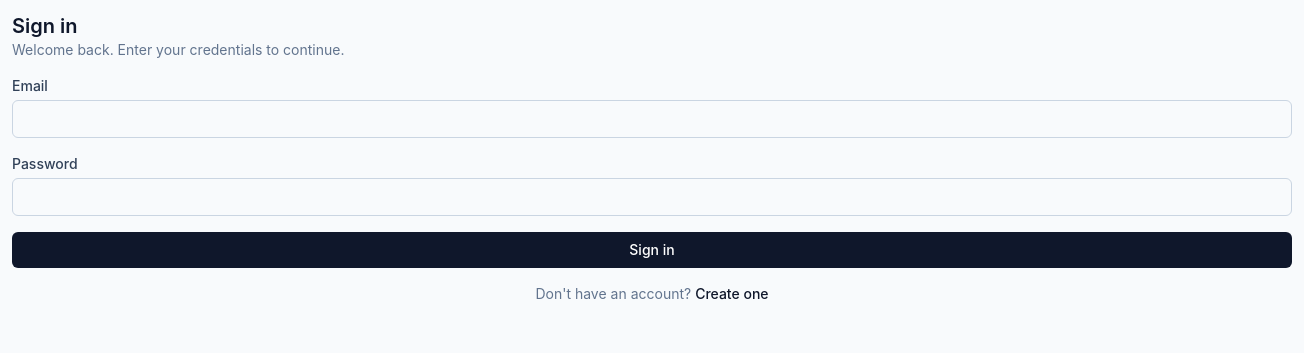
Test: LoginForm › shows the rejected error message and does not navigate when login fails
Type "ada@example.com" into the field labelled "Email" at (652, 119), box x1=12 y1=100 x2=1292 y2=138
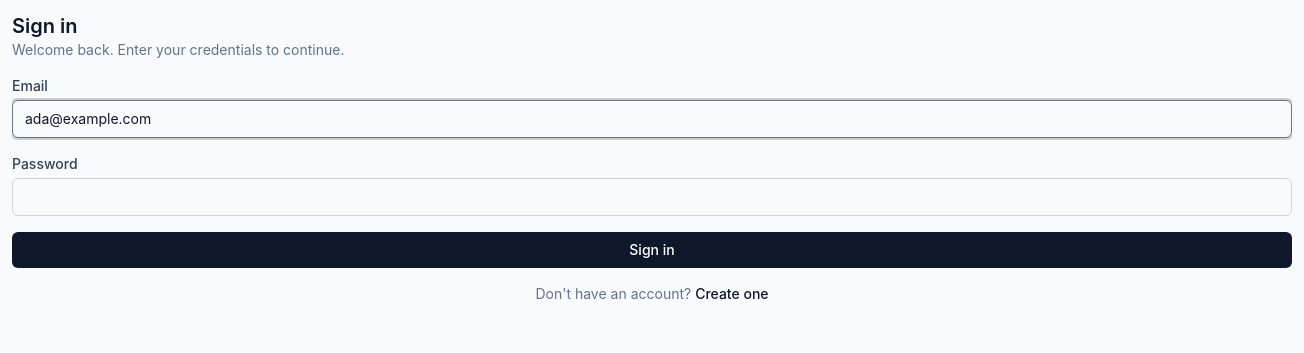
Type "wrong-password" into the password field labelled "Password" at (652, 197), box x1=12 y1=178 x2=1292 y2=216
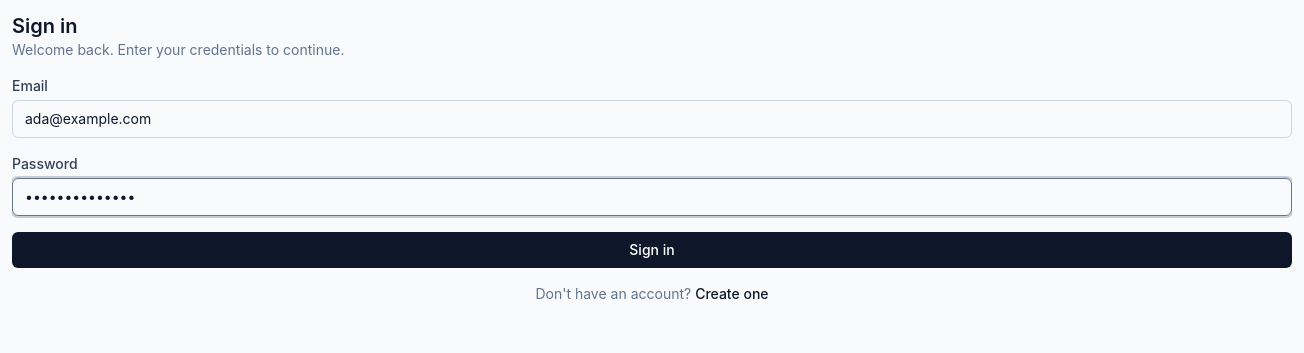
Click the button "Sign in" at (652, 250), box x1=12 y1=232 x2=1292 y2=268
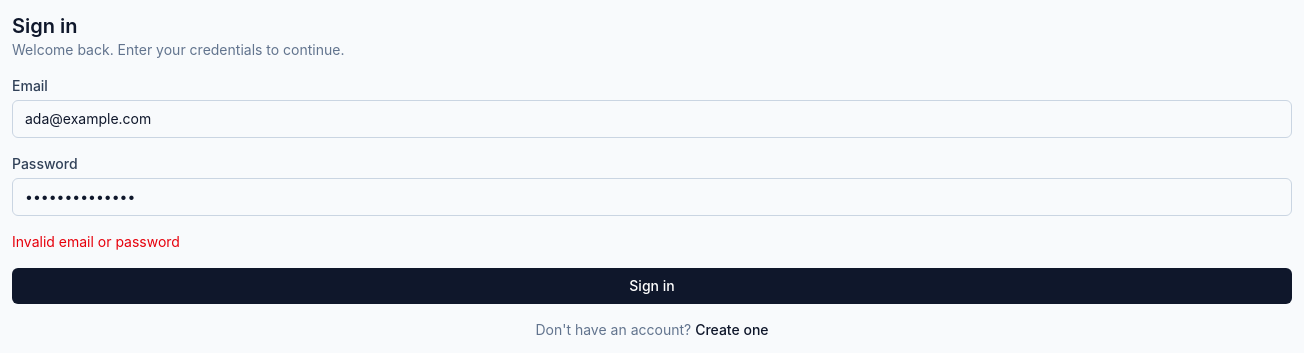
Result: the text "Invalid email or password" is shown at x1=12 y1=233 x2=180 y2=250
